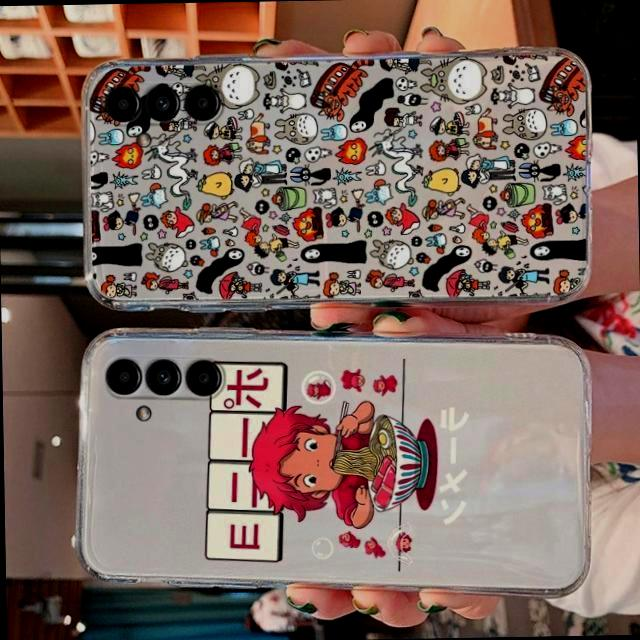phone: (78, 327, 588, 597), (80, 53, 590, 304)
